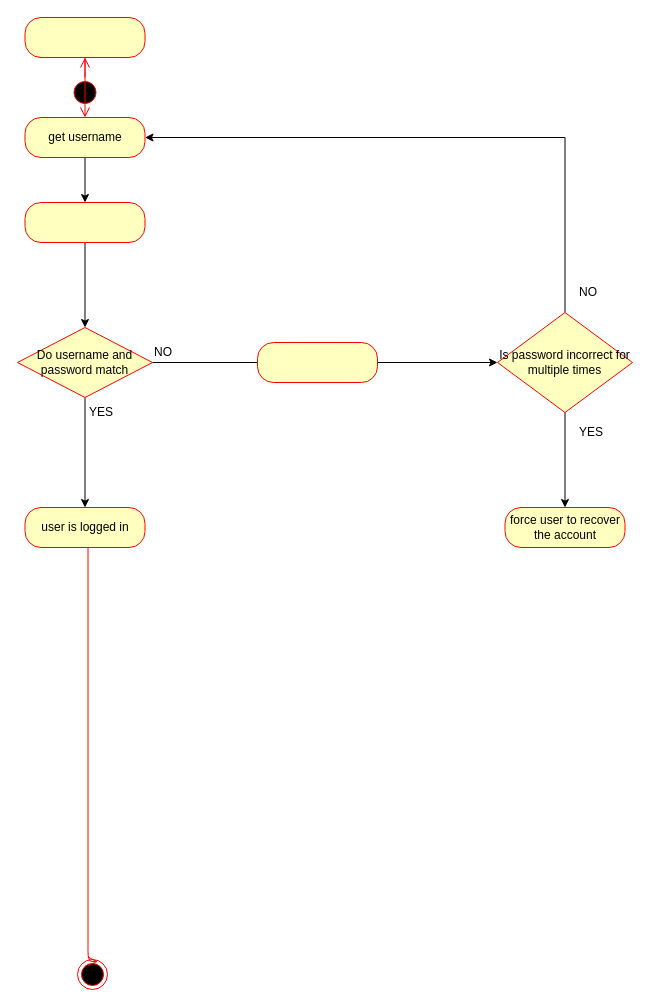
The diagram is 650 pixels wide and 1007 high, and some of its shapes have lost their labels. Here are the shapes that lost their labels. From the top down, the centre of each, then its label:
the point at 84,37: clicking login button
the point at 84,222: get password
the point at 317,362: show account recovery button
